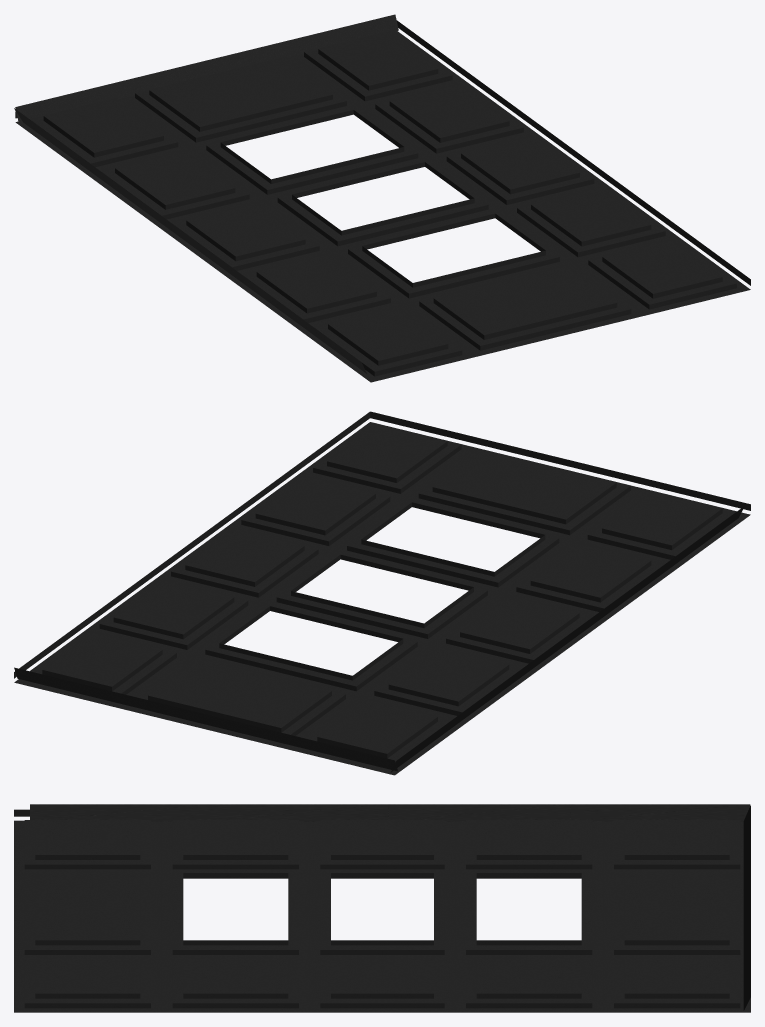
The model's file is only wall.FBX.
3 views of the same model, one above another, from view 1: azimuth 30°, elevation 25°; view 2: azimuth 150°, elevation 25°; view 3: azimuth 270°, elevation 25° (orthographic). The views are drawn at different scales.
Visible parts, largest first — view 1: hall1_walls; view 2: hall1_walls; view 3: hall1_walls.
Boxes of the visible parts, left/top/right/bottom form: hall1_walls: left=14, top=14, right=750, bottom=382; hall1_walls: left=14, top=411, right=750, bottom=775; hall1_walls: left=14, top=804, right=750, bottom=1012.
Bounding box in the file's own units: 1004 × 38.03 × 1621.
Materials: 1 (1 with a texture image).
